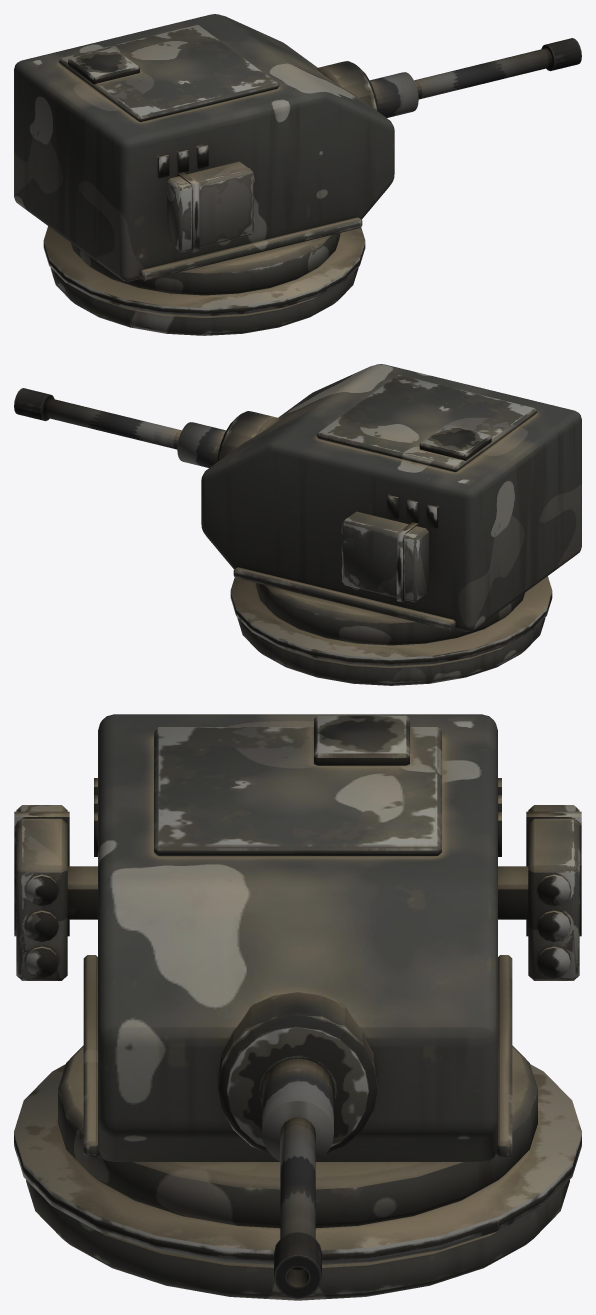
Rendered from turret_grach_t1_ash.glb.
3 views of the same model, one above another, from view 1: azimuth 30°, elevation 25°; view 2: azimuth 150°, elevation 25°; view 3: azimuth 270°, elevation 25° (orthographic). The views are drawn at different scales.
Visible parts, largest first — view 1: turret_light_t1, guns, pods; view 2: turret_light_t1, guns, pods; view 3: turret_light_t1, guns, pods.
Part boxes in pixels (x1=…): turret_light_t1: x1=14, y1=14, x2=394, y2=335; guns: x1=316, y1=38, x2=581, y2=117; pods: x1=167, y1=161, x2=254, y2=252; turret_light_t1: x1=201, y1=364, x2=581, y2=685; guns: x1=14, y1=388, x2=279, y2=467; pods: x1=341, y1=511, x2=428, y2=602; turret_light_t1: x1=14, y1=714, x2=581, y2=1300; guns: x1=218, y1=992, x2=377, y2=1298; pods: x1=14, y1=805, x2=581, y2=980.
Size of the model in its own units: 1.14 by 0.4664 by 0.6248.
3 materials, 3 textured.
